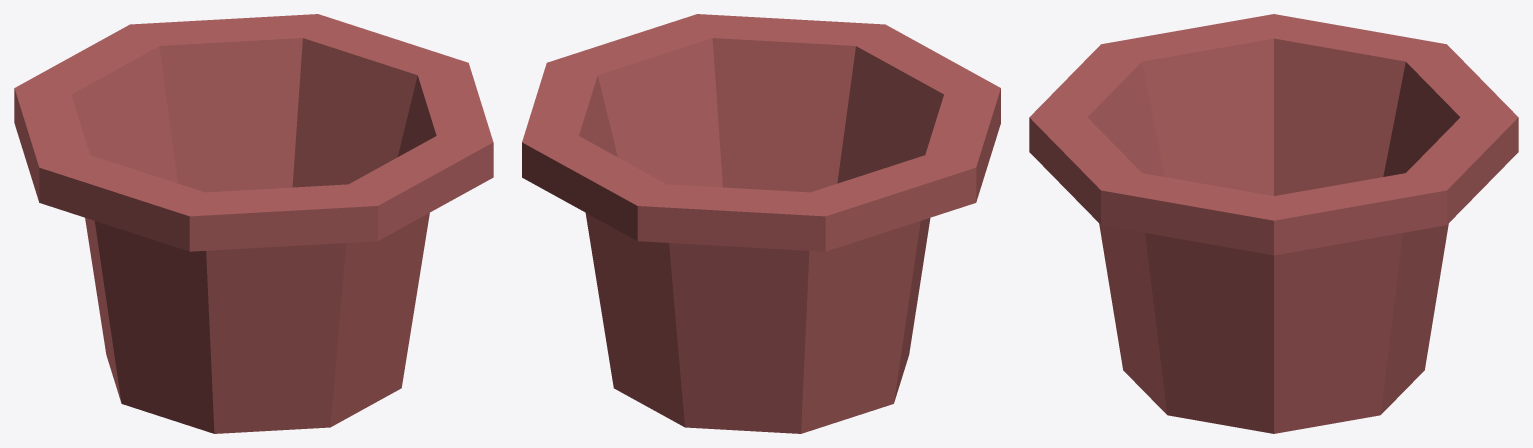
File: Pot_7.fbx
3 renders of one model, left to right at view 1: azimuth 30°, elevation 25°; view 2: azimuth 150°, elevation 25°; view 3: azimuth 270°, elevation 25°, orthographic.
Visible parts, largest first — view 1: Pot_7; view 2: Pot_7; view 3: Pot_7.
Part boxes in pixels (<box>): Pot_7: <box>14,14,493,433</box>; Pot_7: <box>522,14,1000,433</box>; Pot_7: <box>1029,14,1518,433</box>.
Size of the model in its own units: 48.99 by 48.99 by 27.94.
